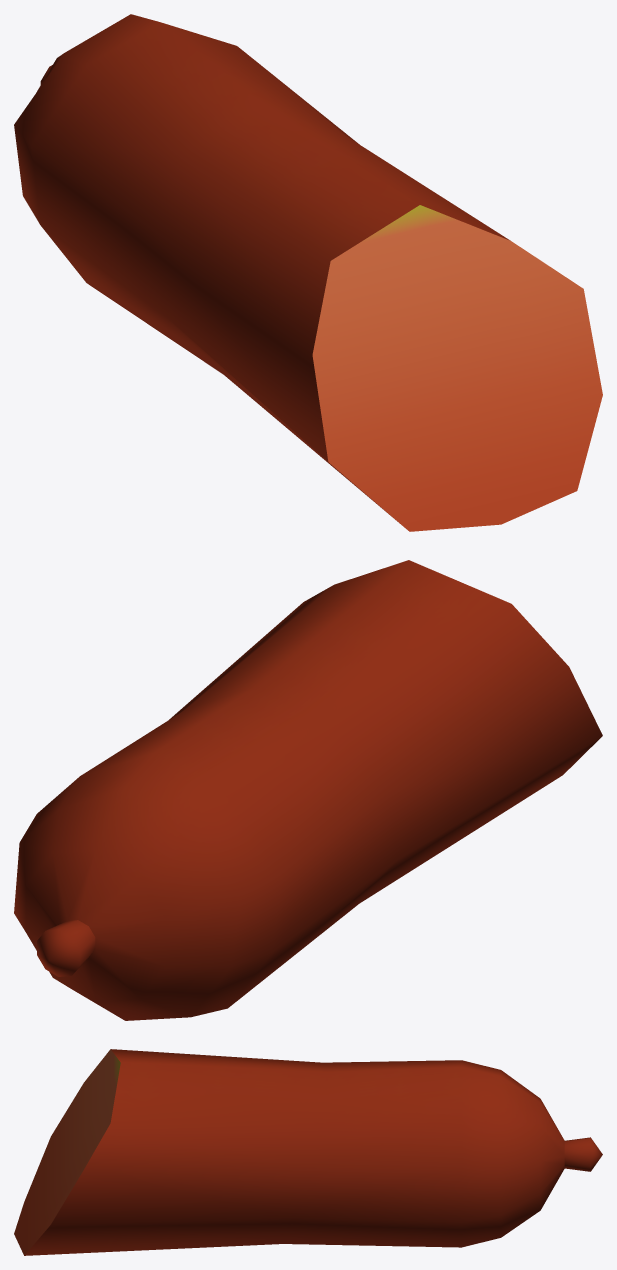
File: Saucisson.fbx
3 views of the same model, one above another, from view 1: azimuth 30°, elevation 25°; view 2: azimuth 150°, elevation 25°; view 3: azimuth 270°, elevation 25° (orthographic). The views are drawn at different scales.
Visible parts, largest first — view 1: Saucisson; view 2: Saucisson; view 3: Saucisson.
Part boxes in pixels (x1,y1,x2,y2): Saucisson: (14,14,602,531); Saucisson: (14,560,602,1020); Saucisson: (14,1049,602,1255).
Bounding box in the file's own units: 71.36 × 66.2 × 197.
